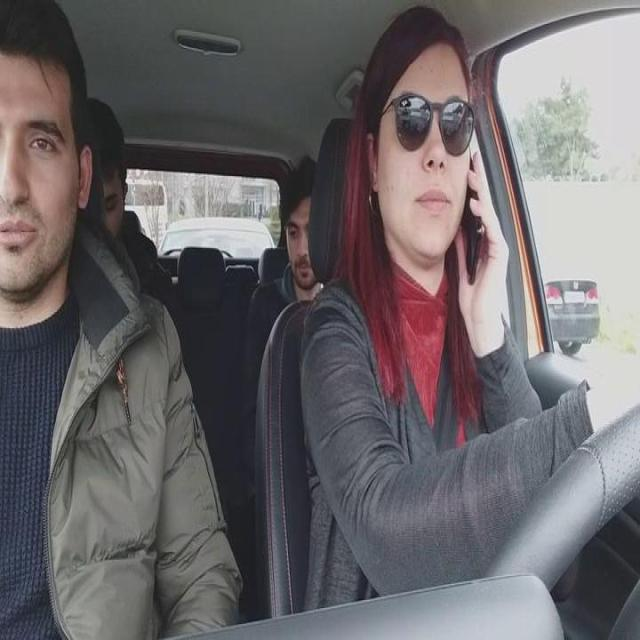phone: (463, 186, 485, 290)
